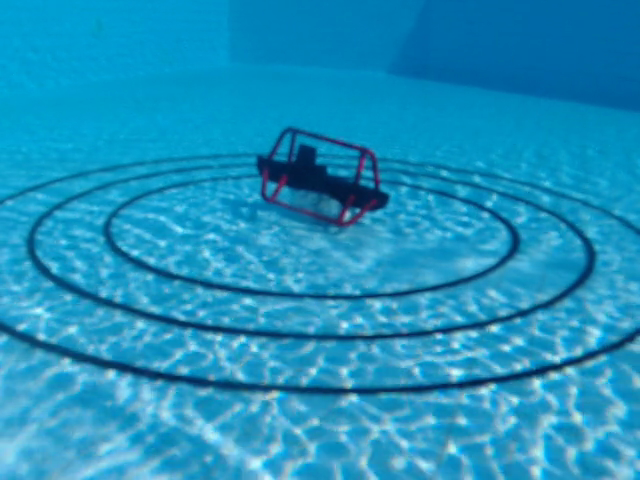submarine: (256, 125, 392, 230)
